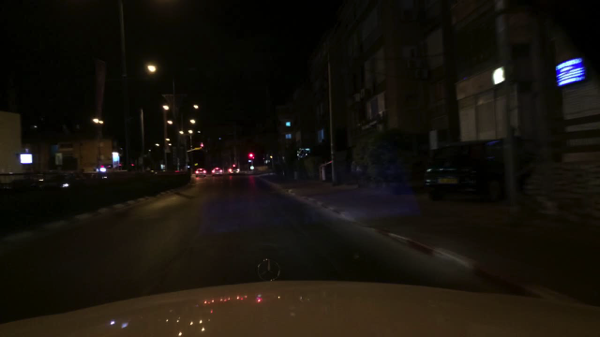car: (422, 137, 536, 199), (96, 162, 122, 168), (227, 166, 240, 176), (195, 168, 207, 178), (211, 167, 224, 176), (180, 165, 193, 172)
traffic light: (249, 153, 252, 159), (201, 143, 203, 147)
traffic sign: (55, 154, 63, 165), (286, 134, 291, 139), (286, 122, 291, 127), (195, 148, 200, 150), (270, 156, 273, 159)
